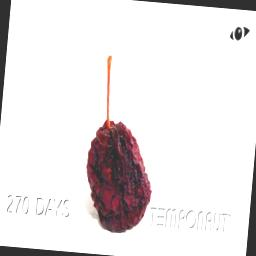Apple Rotten: (66, 12, 187, 240)
